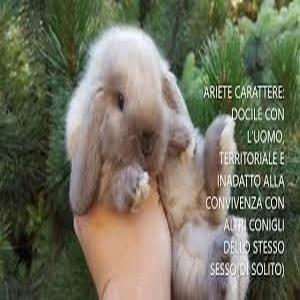rabbit: (66, 26, 250, 300)
